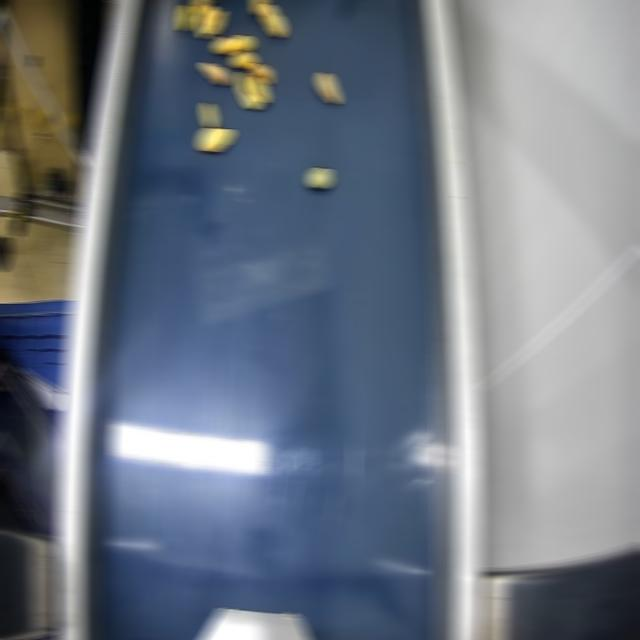Baby Potato: (236, 73, 261, 110), (260, 3, 285, 37), (198, 128, 233, 151), (316, 72, 339, 104), (196, 6, 217, 39), (201, 62, 228, 86), (249, 76, 268, 103), (308, 167, 331, 189), (249, 63, 272, 84), (213, 36, 236, 55), (207, 10, 224, 34), (232, 51, 255, 68), (178, 5, 193, 31), (201, 103, 216, 127), (232, 34, 253, 51), (192, 0, 209, 15), (252, 0, 267, 15)
